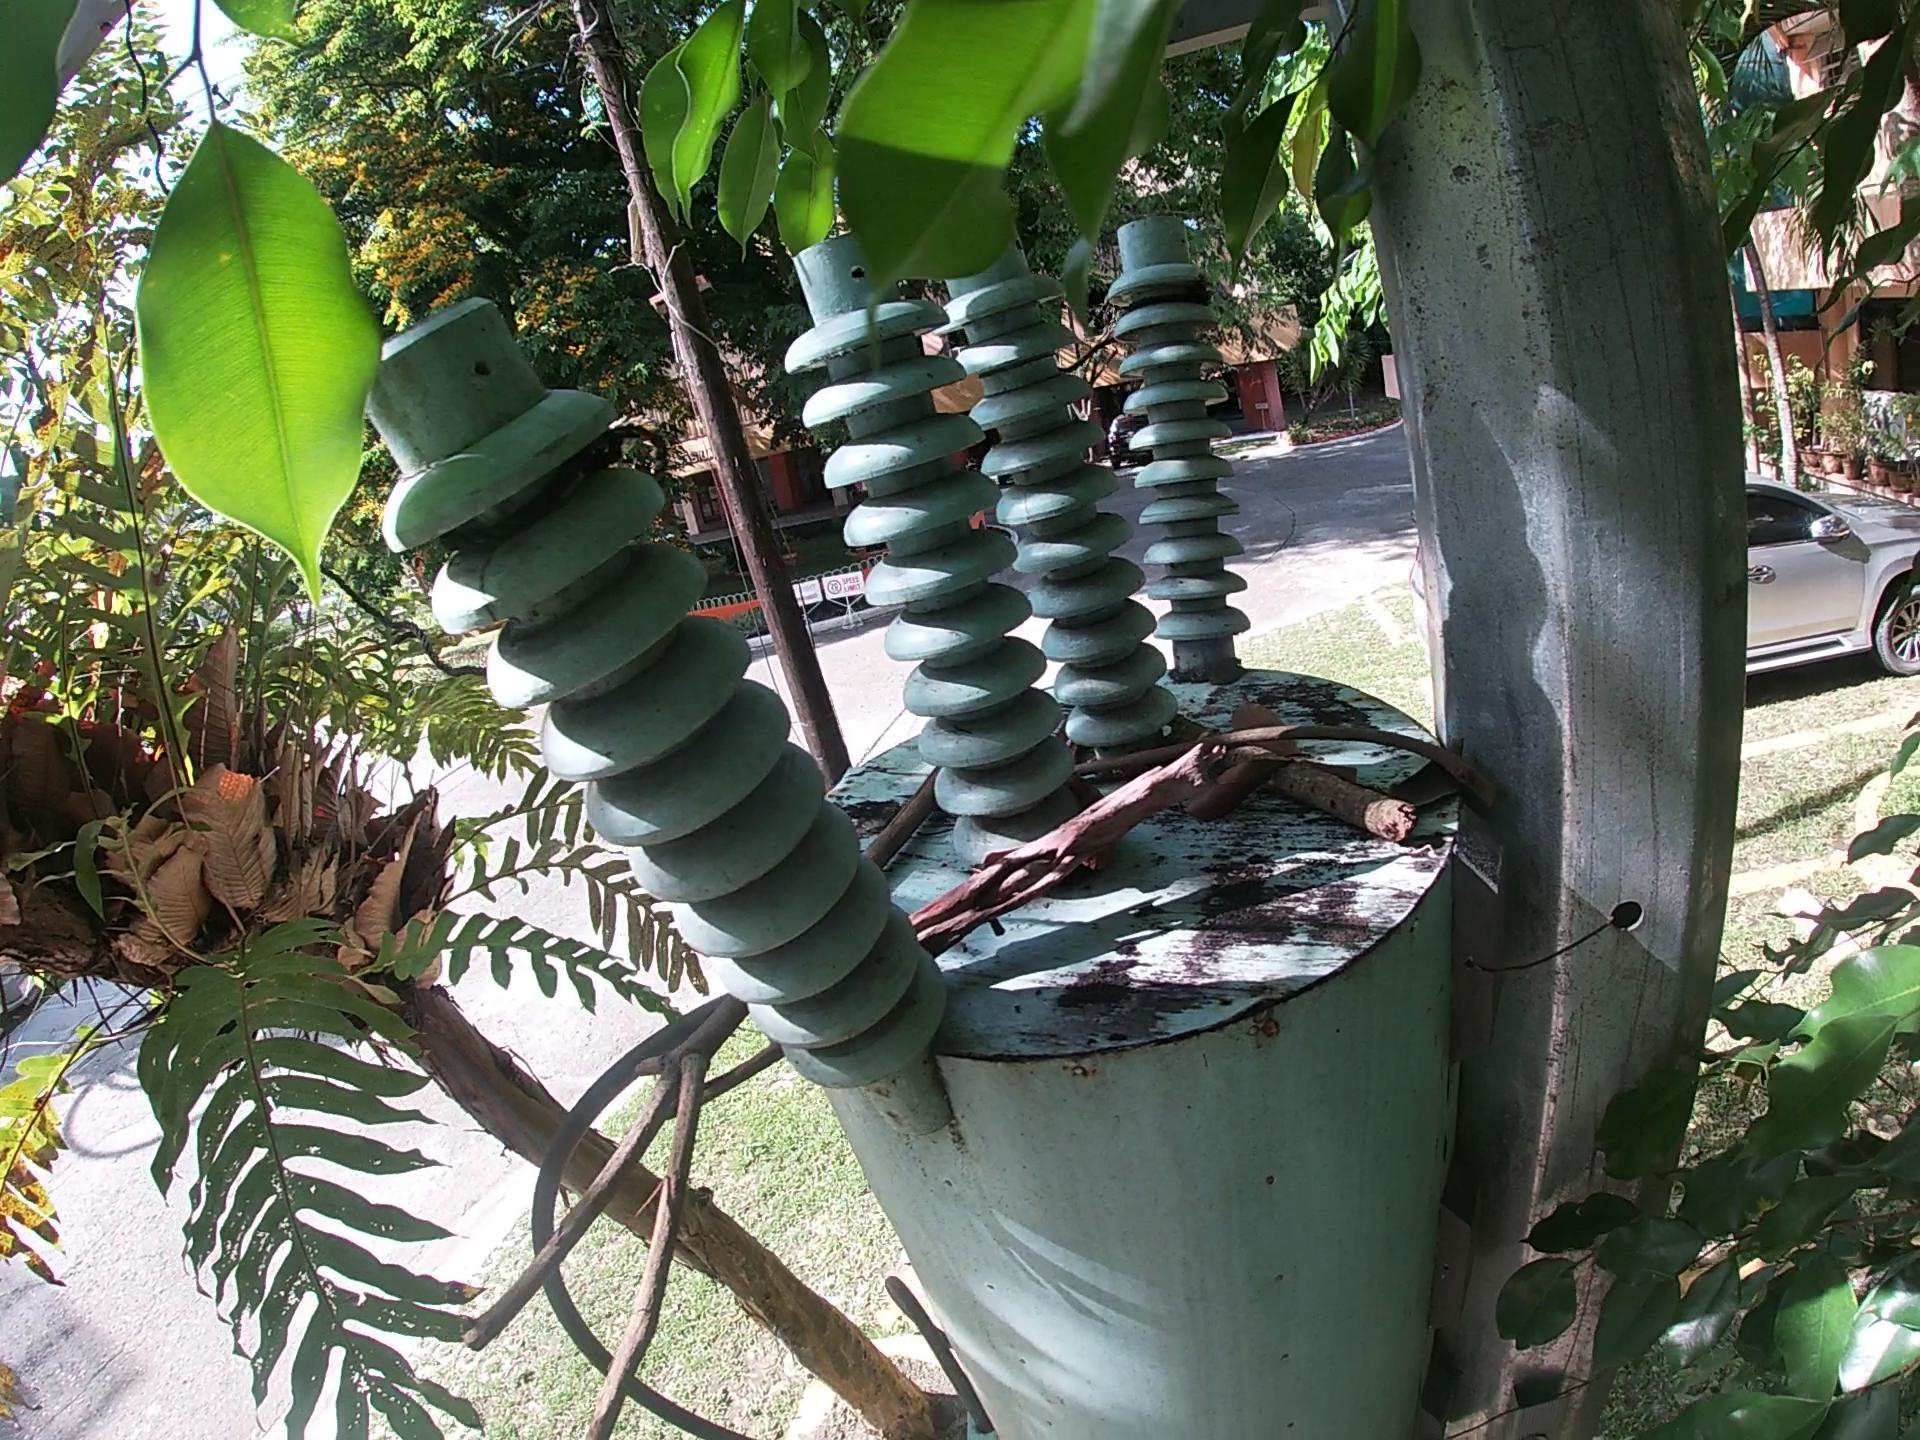leaf: (1194, 753, 1285, 805), (1240, 705, 1312, 759)
tree branch: (458, 995, 780, 1438), (901, 735, 1243, 942), (1166, 722, 1442, 855), (1055, 725, 1513, 787), (866, 759, 942, 861)
